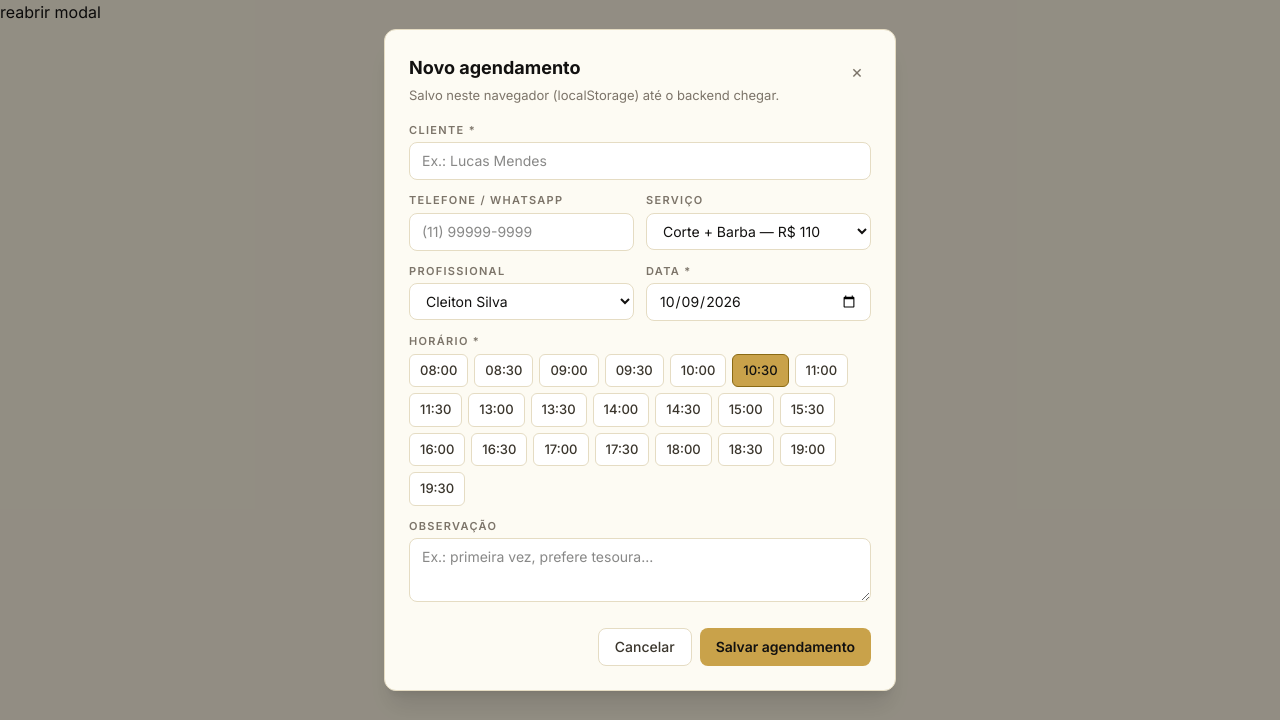
Test: NovoAgendamentoModal — confirmação automática de WhatsApp › serviço inexistente no cadastro: não salva e não cria/envia confirmação
The image size is (1280, 720).
Step 1. Type "Ana Souza" into the field labelled "Cliente *" → [640, 161], box [409,142,871,180]
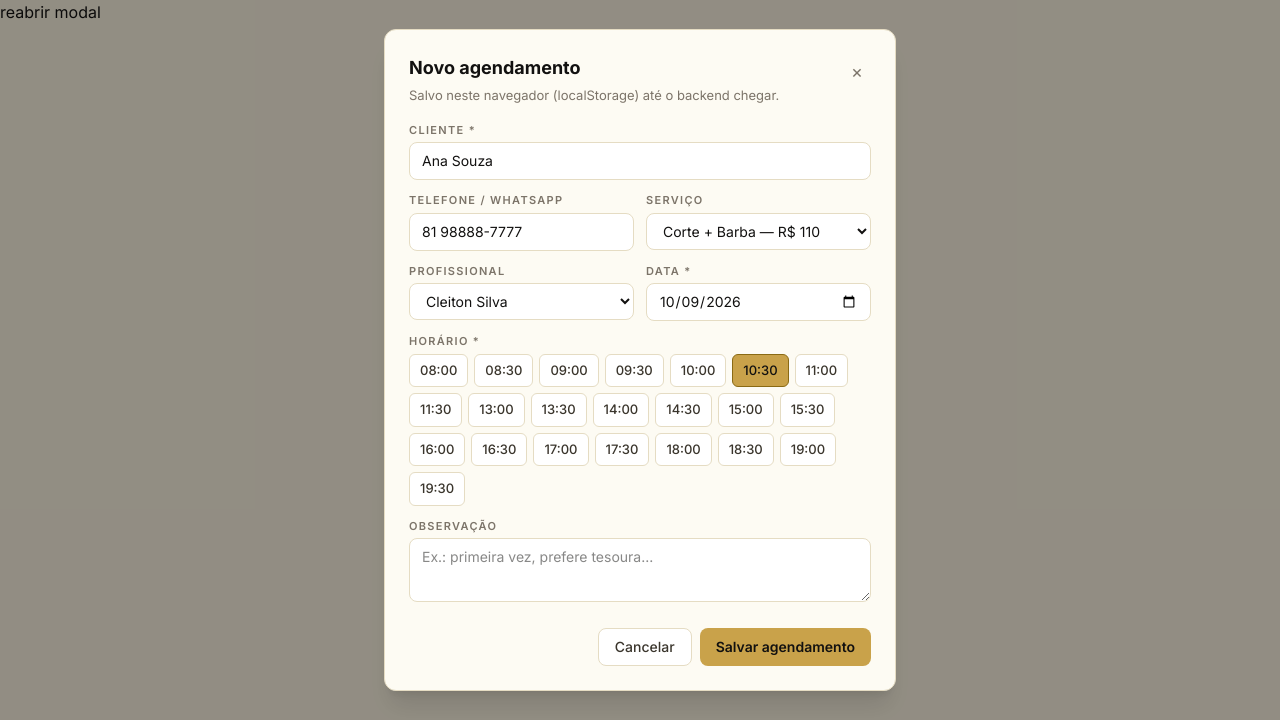
Step 2. Click the button "Salvar agendamento" → [785, 647], box [700,628,871,666]
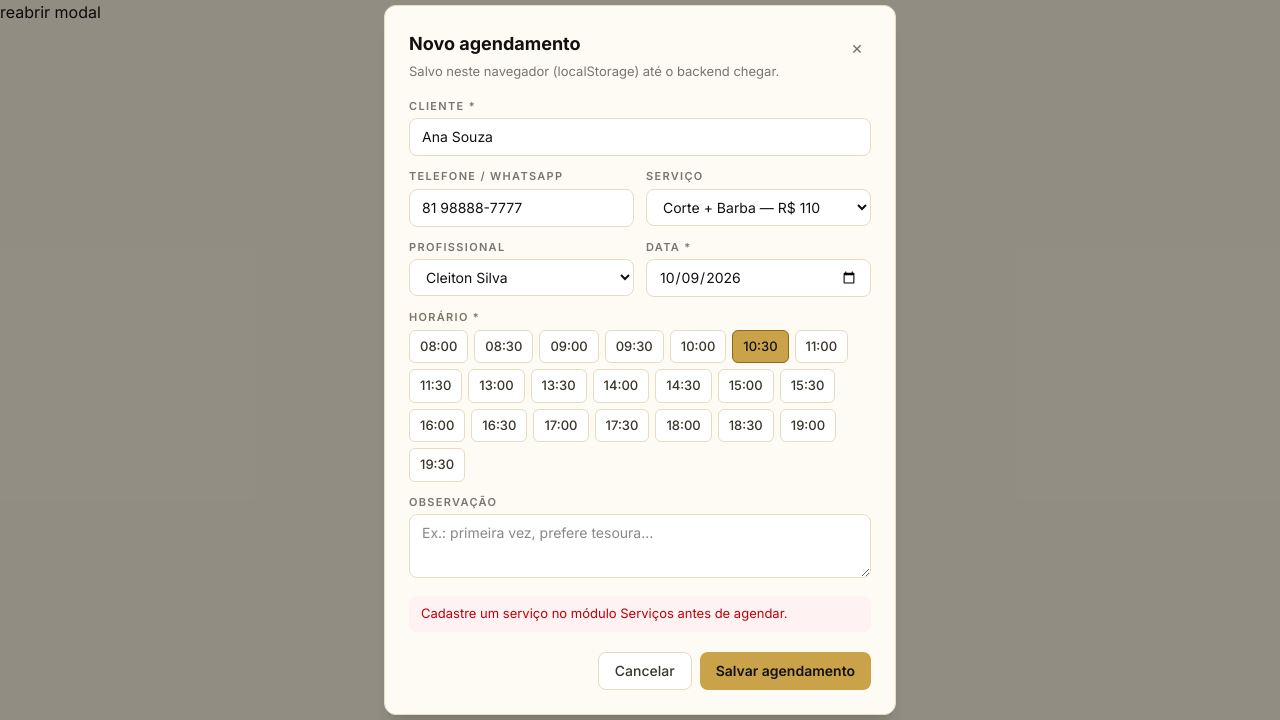
Expected: the text "Cadastre um serviço no módulo Serviços antes de agendar." is shown, [409,596,871,632]
